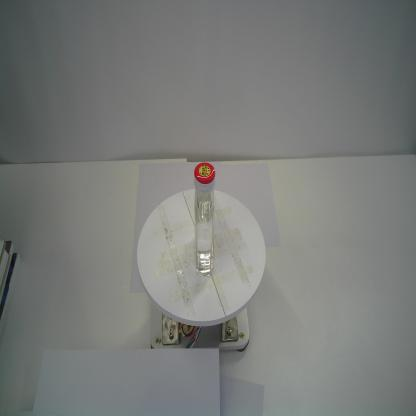Alcohol: (191, 161, 219, 278)
